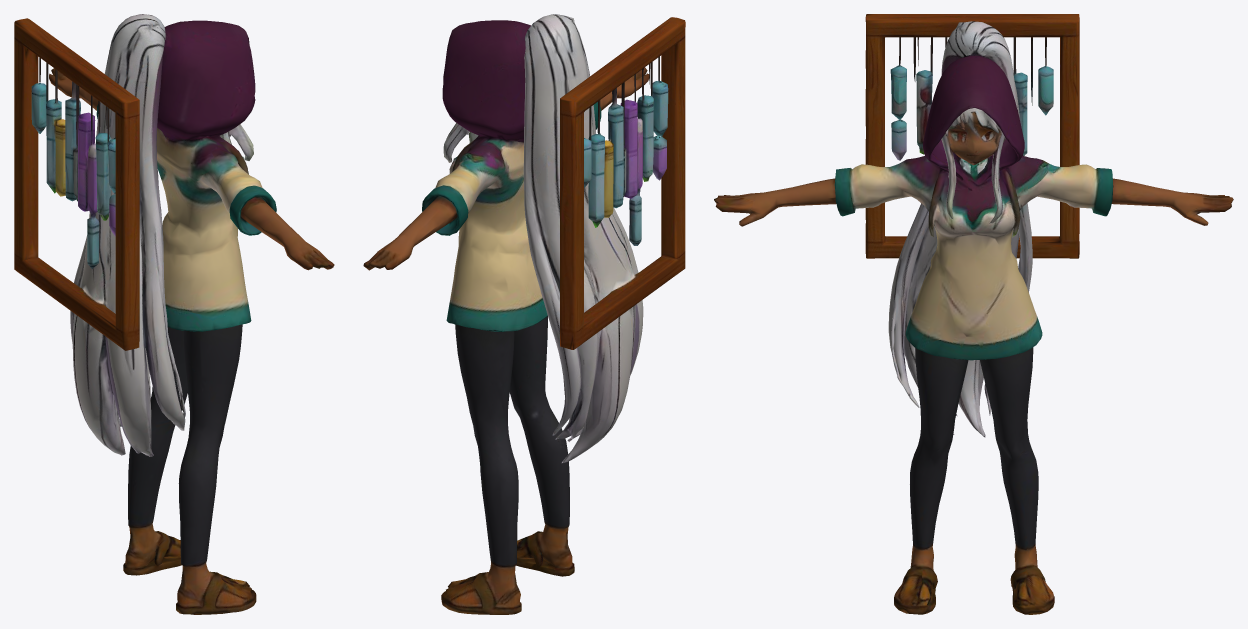
File: n2_musician.b925f5b1.glb
The picture shows the model from 3 angles, left to right: view 1: azimuth 30°, elevation 25°; view 2: azimuth 150°, elevation 25°; view 3: azimuth 270°, elevation 25°; orthographic projection. The views are drawn at different scales.
Parts seen in each view (by area): view 1: tripo_node_25625804-0141-419f-8bec-d98ed9311d0d; view 2: tripo_node_25625804-0141-419f-8bec-d98ed9311d0d; view 3: tripo_node_25625804-0141-419f-8bec-d98ed9311d0d.
Boxes of the visible parts, x1,y1,x2,y2 form: tripo_node_25625804-0141-419f-8bec-d98ed9311d0d: [14, 14, 334, 614]; tripo_node_25625804-0141-419f-8bec-d98ed9311d0d: [363, 14, 685, 614]; tripo_node_25625804-0141-419f-8bec-d98ed9311d0d: [714, 14, 1233, 614].
Bounding box in the file's own units: 0.3211 × 0.9999 × 0.8504.
1 material, 1 textured.
